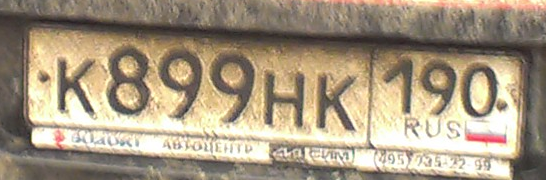character: (207, 46, 257, 125), (154, 40, 203, 120), (105, 46, 151, 116), (262, 68, 309, 127), (54, 51, 97, 115), (315, 73, 359, 134), (457, 58, 498, 120), (420, 58, 457, 119), (382, 54, 418, 113)
